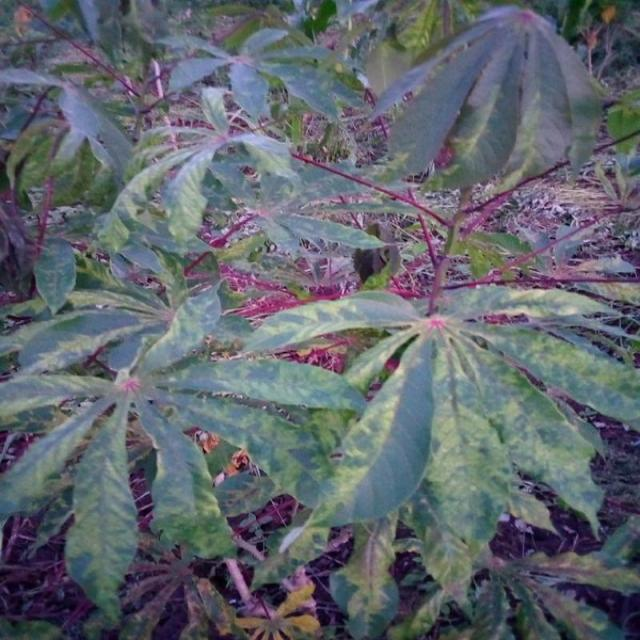cassava leaf: (0, 3, 638, 636), (366, 4, 605, 203)
